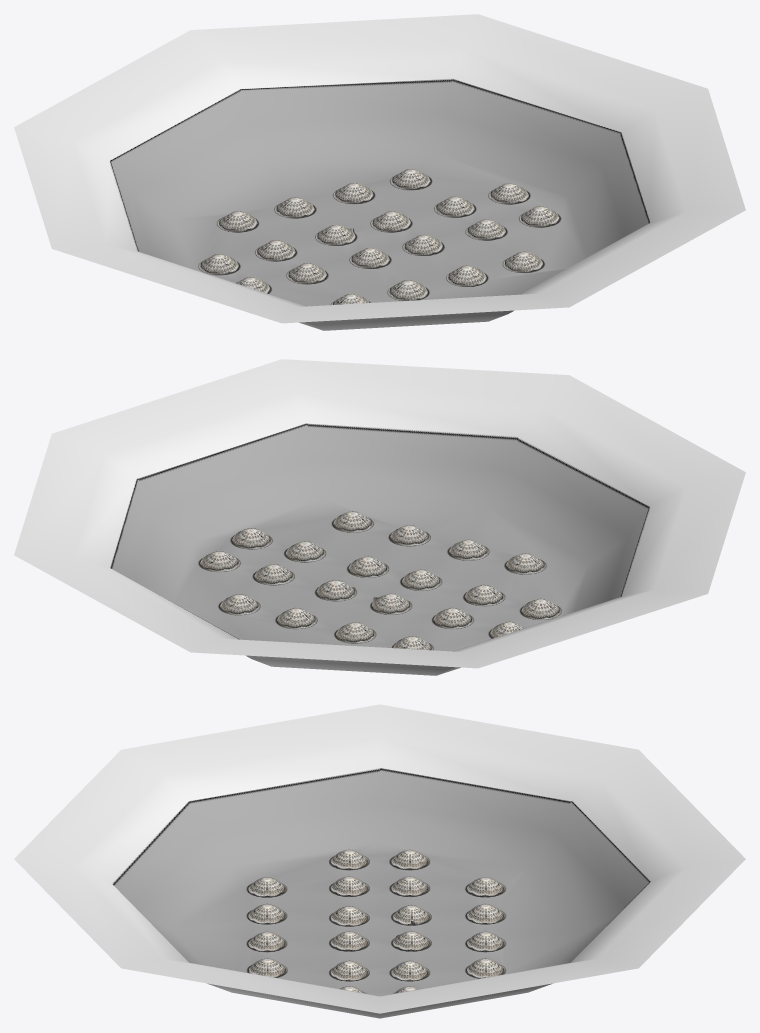
File: ceilingLights.fbx
The picture shows the model from 3 angles, top to bottom: view 1: azimuth 30°, elevation 25°; view 2: azimuth 150°, elevation 25°; view 3: azimuth 270°, elevation 25°; orthographic projection. The views are drawn at different scales.
Visible parts, largest first — view 1: polySurface12; view 2: polySurface12; view 3: polySurface12.
Part boxes in pixels (<box>): polySurface12: <box>14,14,745,330</box>; polySurface12: <box>14,359,745,675</box>; polySurface12: <box>14,704,745,1018</box>.
Size of the model in its own units: 166 by 17.78 by 166.
